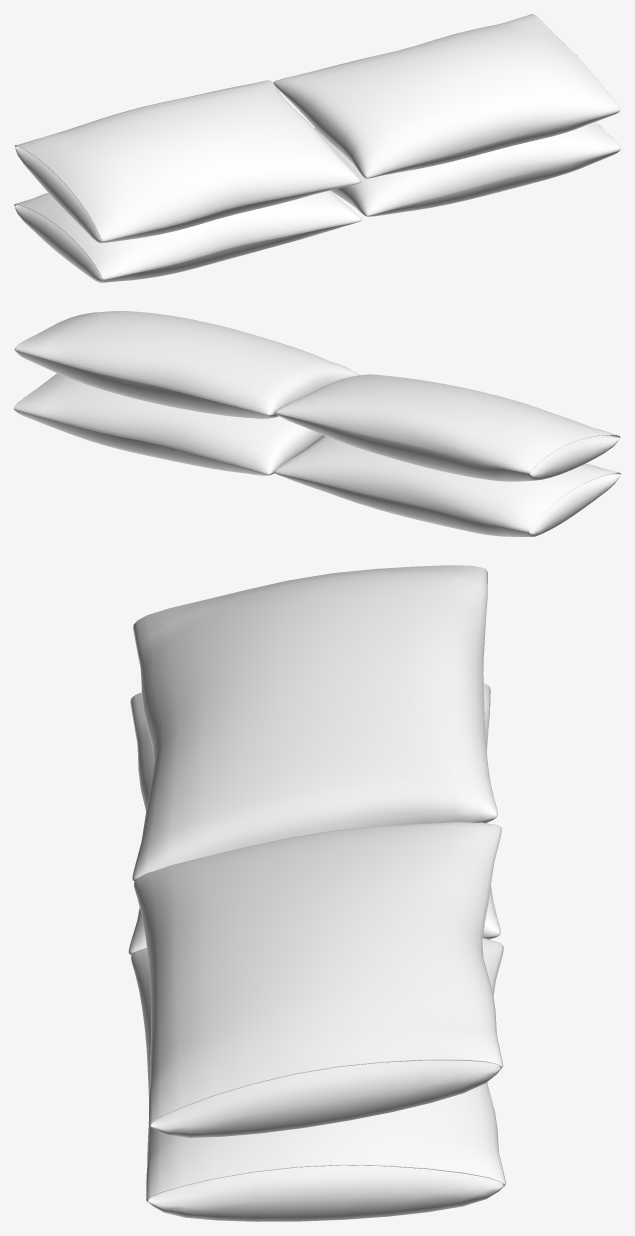
Rendered from pillows.gltf.
3 views of the same model, one above another, from view 1: azimuth 30°, elevation 25°; view 2: azimuth 150°, elevation 25°; view 3: azimuth 270°, elevation 25° (orthographic). The views are drawn at different scales.
Parts seen in each view (by area): view 1: pillow03, pillow04, pillow01, pillow02; view 2: pillow04, pillow03, pillow01, pillow02; view 3: pillow04, pillow03, pillow02, pillow01.
Boxes of the visible parts, x1,y1,x2,y2 form: pillow03: (15,80,360,243); pillow04: (273,14,620,178); pillow01: (14,190,361,282); pillow02: (314,121,620,216); pillow04: (14,311,359,418); pillow03: (274,374,620,481); pillow01: (274,436,620,536); pillow02: (14,373,324,475); pillow04: (134,822,503,1137); pillow03: (132,565,497,880); pillow02: (131,938,506,1221); pillow01: (128,683,500,954).
Size of the model in its own units: 1.02 by 0.2223 by 0.3235.
1 material, 1 textured.
